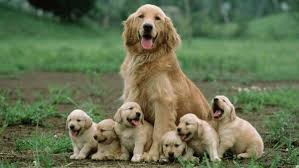dog: (117, 4, 183, 56), (206, 90, 238, 125), (116, 102, 147, 131), (64, 107, 92, 137)
